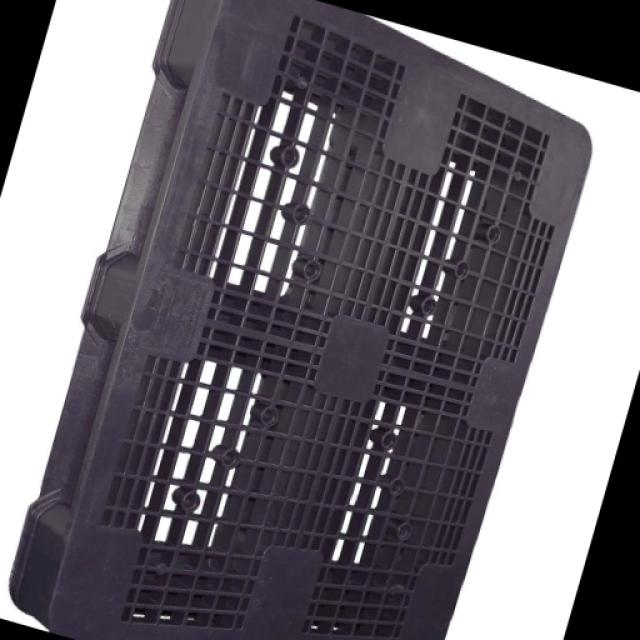non-igps: (5, 2, 598, 640)
